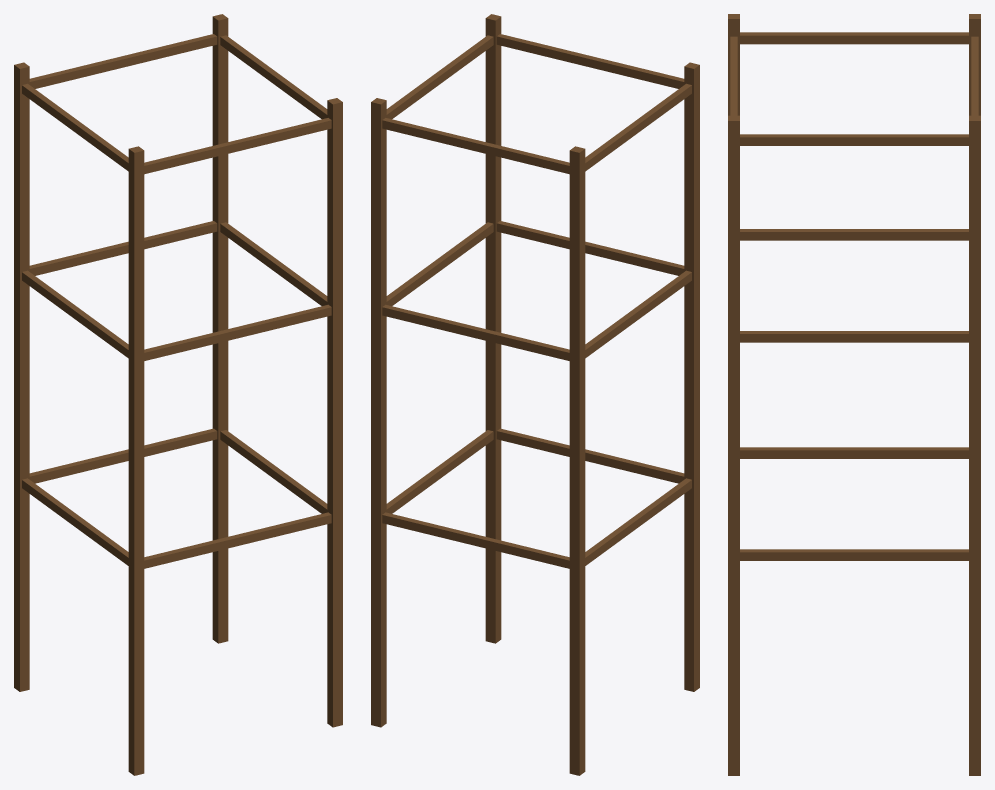
The model's file is scaffold.glb.
The picture shows the model from 3 angles, left to right: view 1: azimuth 30°, elevation 25°; view 2: azimuth 150°, elevation 25°; view 3: azimuth 270°, elevation 25°; orthographic projection. The views are drawn at different scales.
Visible parts, largest first — view 1: scaffold; view 2: scaffold; view 3: scaffold.
Part boxes in pixels (box(x1,y1,x2,y2)): scaffold: box(14, 14, 342, 775); scaffold: box(371, 14, 699, 775); scaffold: box(728, 14, 980, 775).
Size of the model in its own units: 1.05 by 3 by 1.05.
